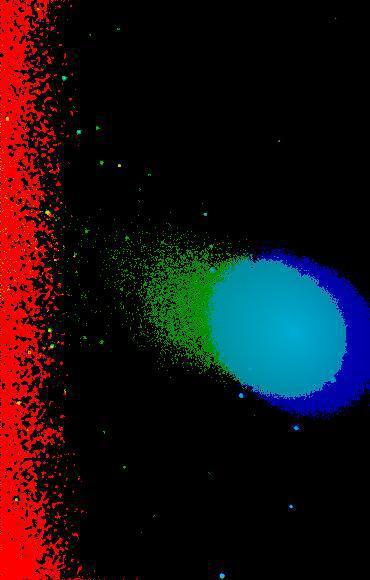star: (104, 152, 134, 182)
